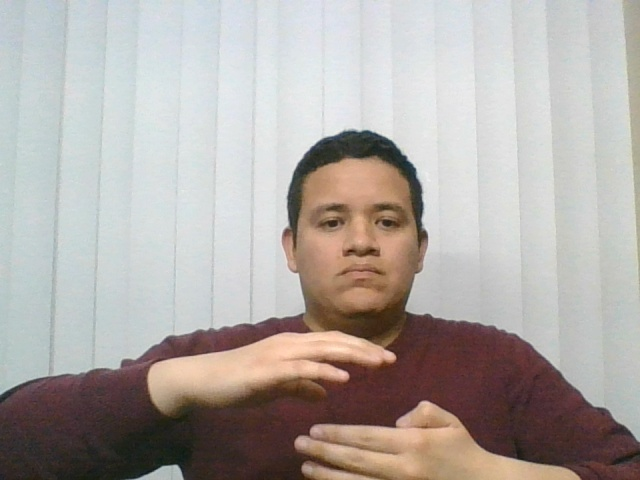To Study: (120, 318, 524, 477)
